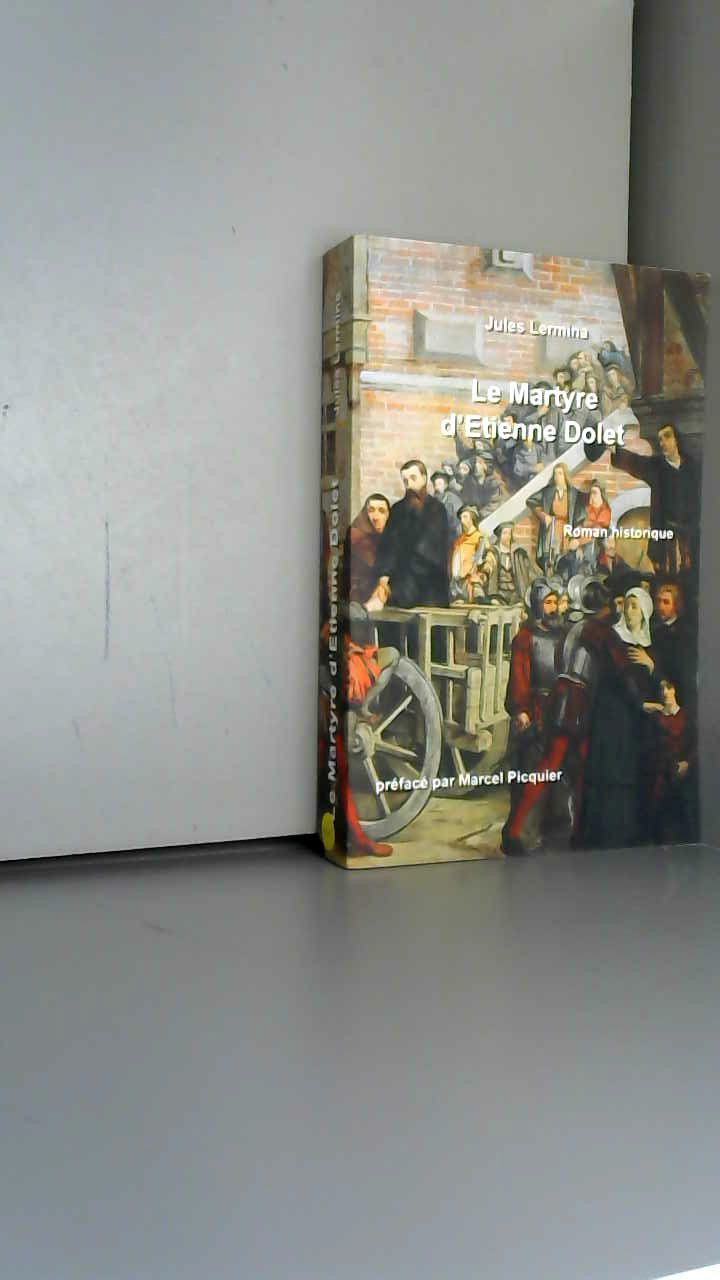book: (290, 210, 720, 892)
